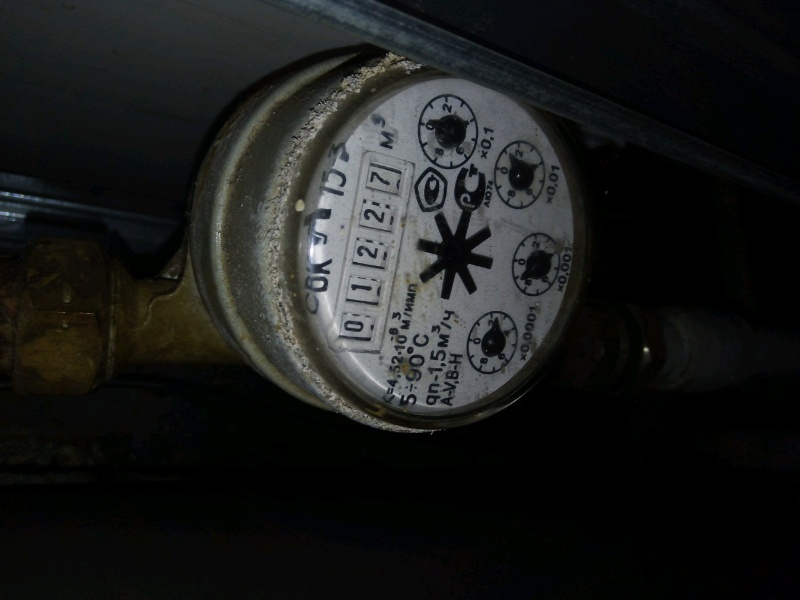meter: (350, 153, 388, 363)
